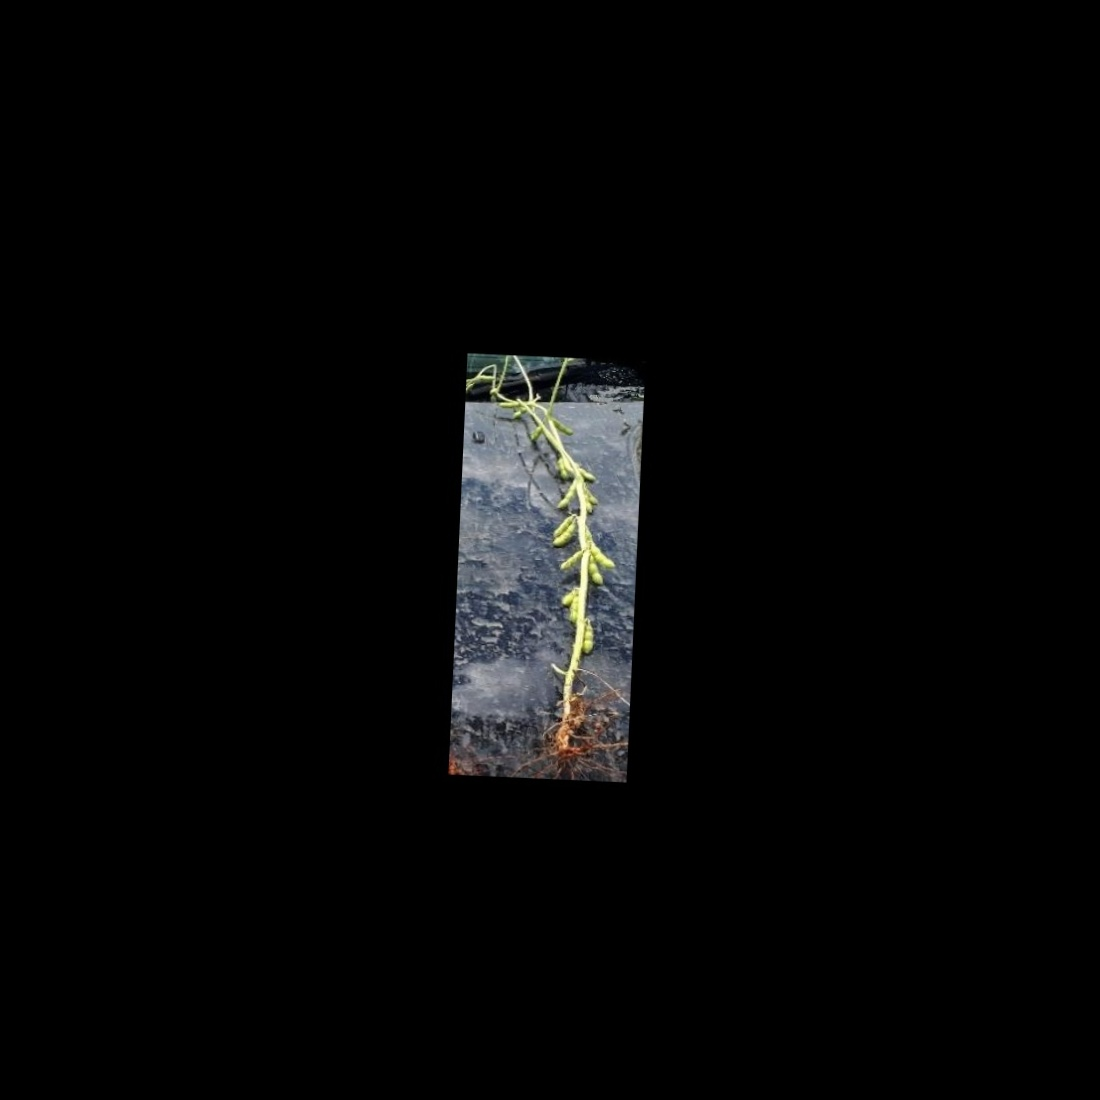pod: (585, 539, 618, 569), (578, 621, 597, 659), (556, 549, 585, 572), (554, 482, 576, 510), (586, 555, 605, 586), (550, 416, 577, 436), (528, 416, 547, 444), (569, 596, 580, 624), (511, 405, 530, 420)
soy: (466, 375, 630, 765)
